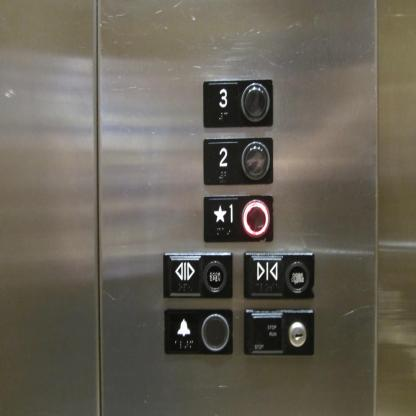2: (201, 134, 275, 188)
3: (200, 77, 276, 130)
alarm: (162, 306, 235, 356)
bt_keyhole: (241, 307, 317, 356)
close: (241, 250, 317, 301)
open: (162, 249, 234, 301)
s1: (202, 193, 275, 244)
